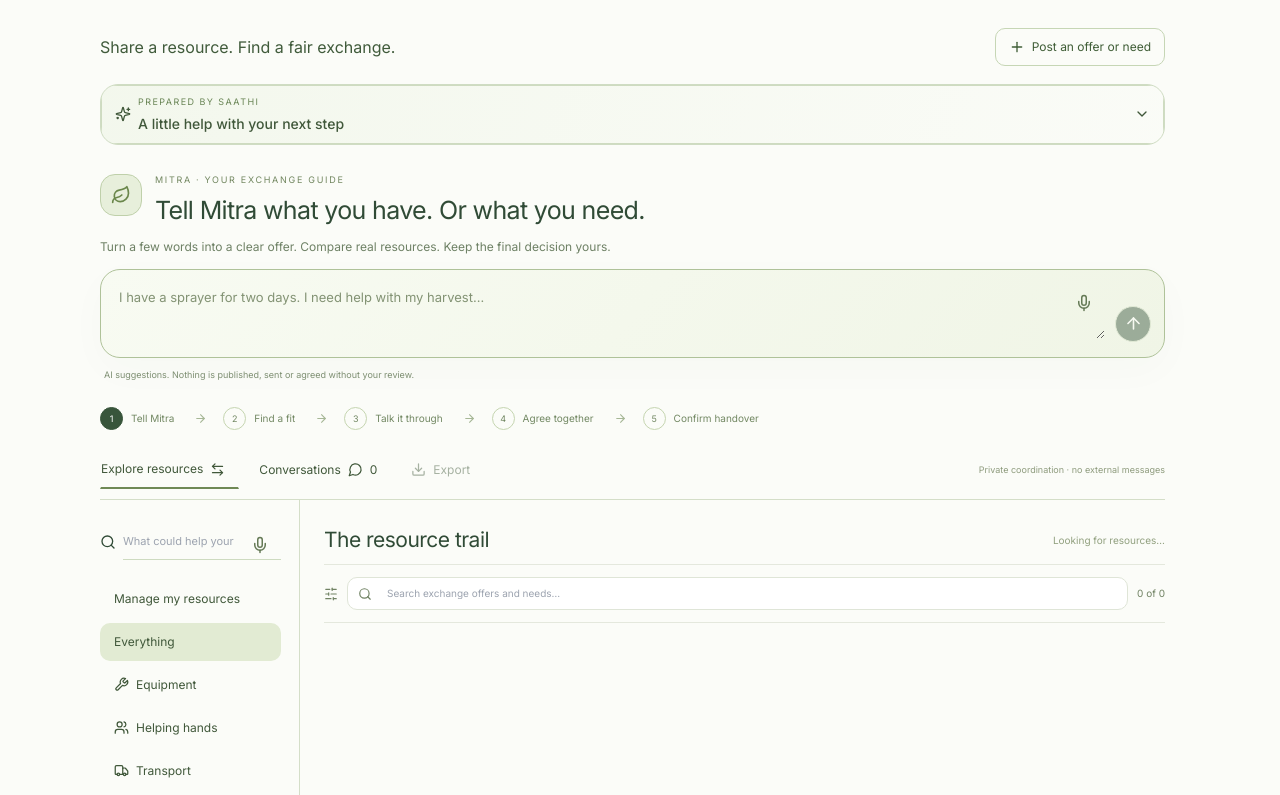
Farmer exchange › requires explicit consent to publish a member resource
What coordinates should you click on to do the following:
click the button "Post an offer or need"
I would click on:
 (1080, 47)
Its box is [995,28,1165,66].
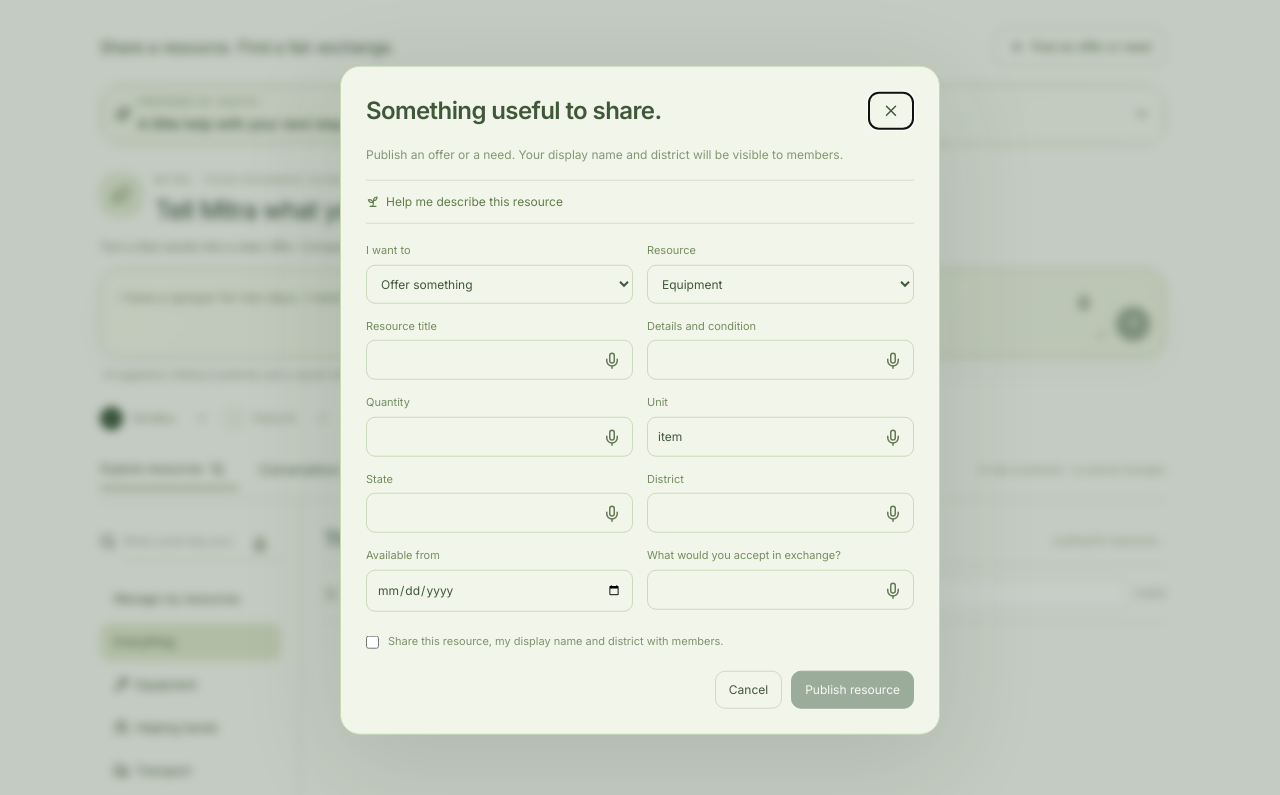
Expected: the button "Publish resource" is disabled, [791,670,914,708]
What coordinates should you click on to do the following:
click the checkbox
I would click on:
 (372, 642)
Its box is [366,636,379,649].
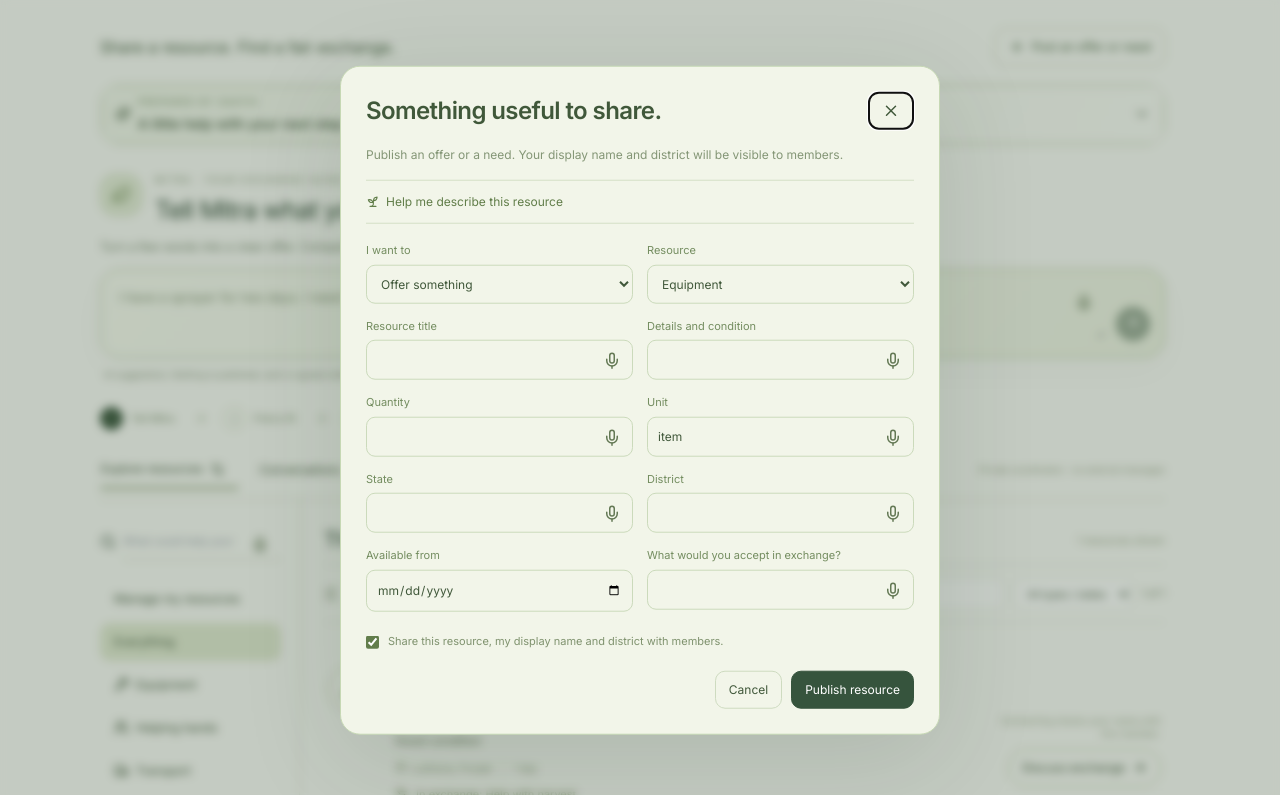
Expected: the button "Publish resource" is enabled, [791,670,914,708]
